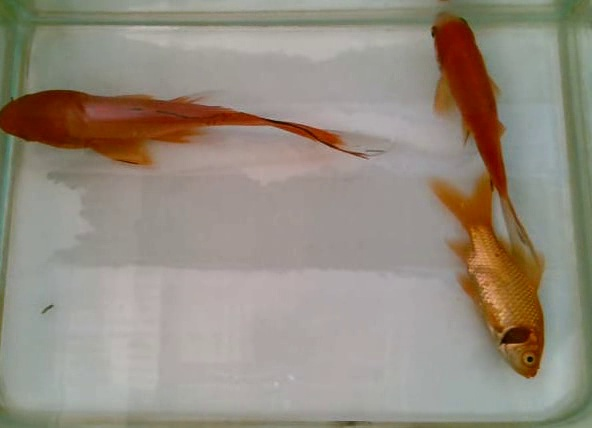alive_fish: (1, 67, 403, 175), (425, 10, 547, 272)
dead_fish: (422, 166, 555, 379)
